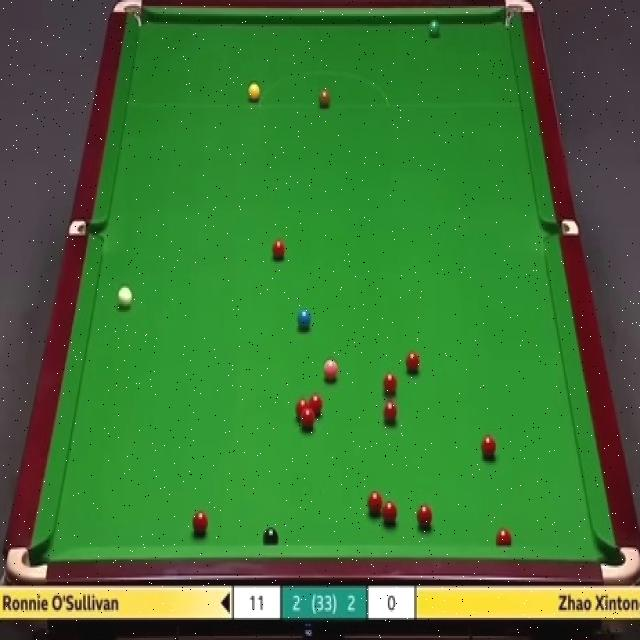black-ball: (262, 524, 280, 547)
blue-ball: (296, 308, 312, 333)
brown-ball: (316, 87, 331, 110)
green-ball: (426, 19, 442, 38)
pink-ball: (323, 355, 339, 382)
red-ball: (382, 498, 398, 530), (404, 349, 421, 378), (416, 504, 432, 531), (479, 434, 496, 459), (367, 490, 383, 516), (193, 509, 209, 535), (383, 402, 398, 427), (383, 371, 398, 396), (310, 394, 324, 419), (272, 238, 286, 262), (497, 526, 512, 546), (296, 398, 309, 419), (302, 410, 314, 430)
white-ball: (116, 284, 133, 309)
yellow-ball: (246, 82, 260, 102)
